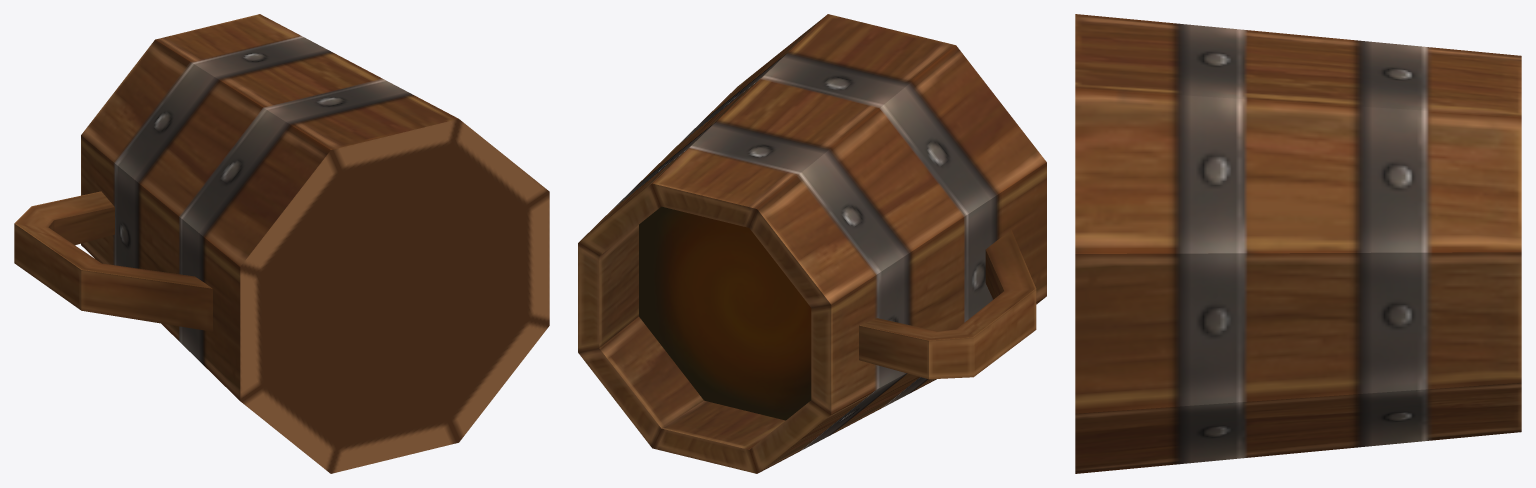
The model's file is Food_cup2.fbx.
3 views of the same model, side by side, from view 1: azimuth 30°, elevation 25°; view 2: azimuth 150°, elevation 25°; view 3: azimuth 270°, elevation 25° (orthographic). The views are drawn at different scales.
Parts seen in each view (by area): view 1: Food_cup2; view 2: Food_cup2; view 3: Food_cup2.
Boxes of the visible parts, x1,y1,x2,y2 form: Food_cup2: [14, 14, 549, 473]; Food_cup2: [578, 14, 1046, 473]; Food_cup2: [1075, 14, 1521, 473].
Bounding box in the file's own units: 0.2239 × 0.1796 × 0.1884.
